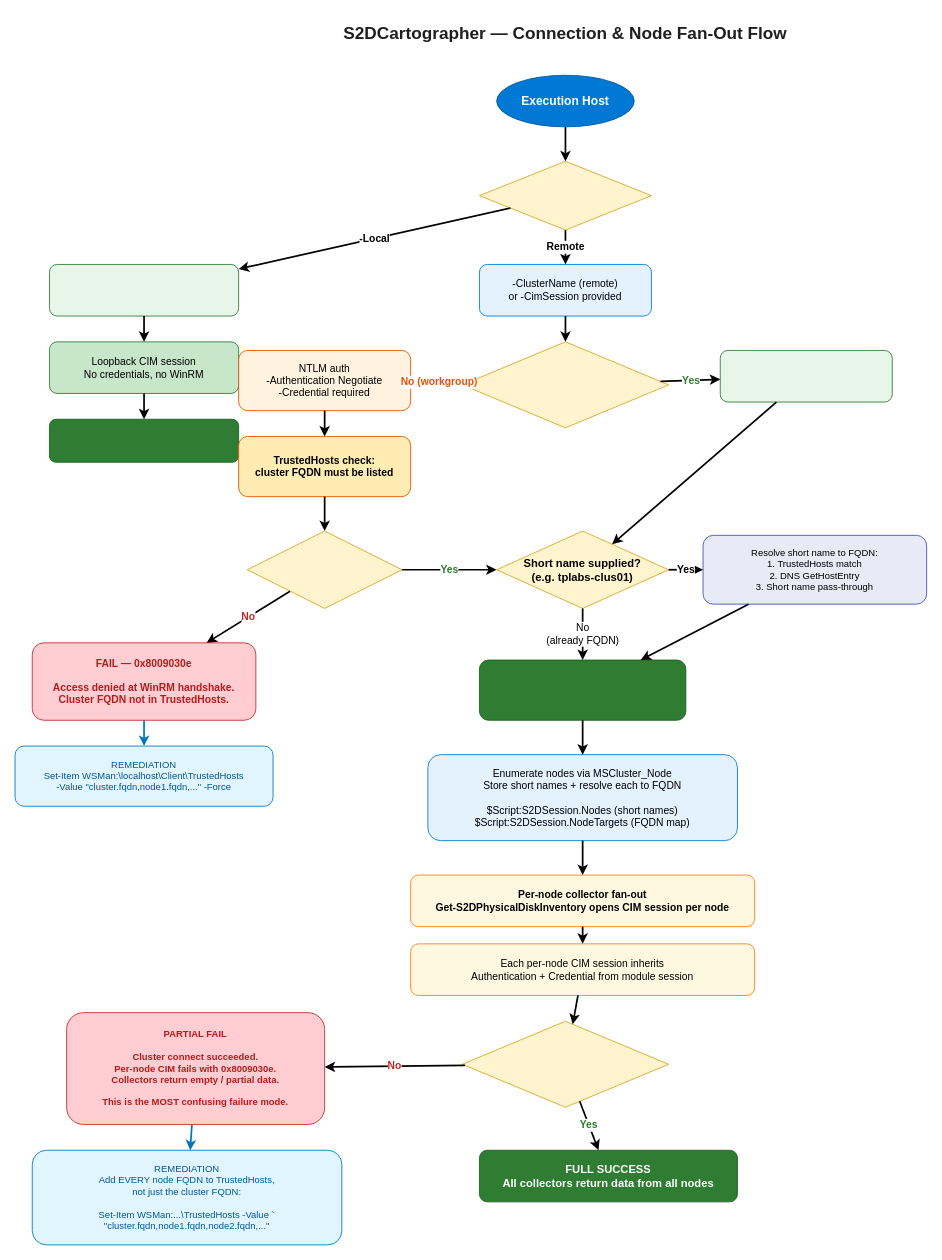
Image size: 942x1260. Some labels were removed from this diagram. Here are the shapes that lost their labels. From the top down, the box of each, then its label:
(479, 160, 651, 230): Execution mode?
(49, 264, 239, 316): -Local switch (running on cluster node)
(461, 341, 669, 428): Is exec host domain-joined to the cluster's domain?
(719, 350, 892, 402): Kerberos auth -Authentication Negotiate
(49, 418, 239, 462): SUCCESS — collectors run locally
(246, 530, 402, 608): FQDN in TrustedHosts?
(479, 659, 686, 720): New-CimSession to cluster FQDN Connect-S2DCluster succeeds
(461, 1020, 669, 1107): ALL node FQDNs in TrustedHosts? (workgroup only)
